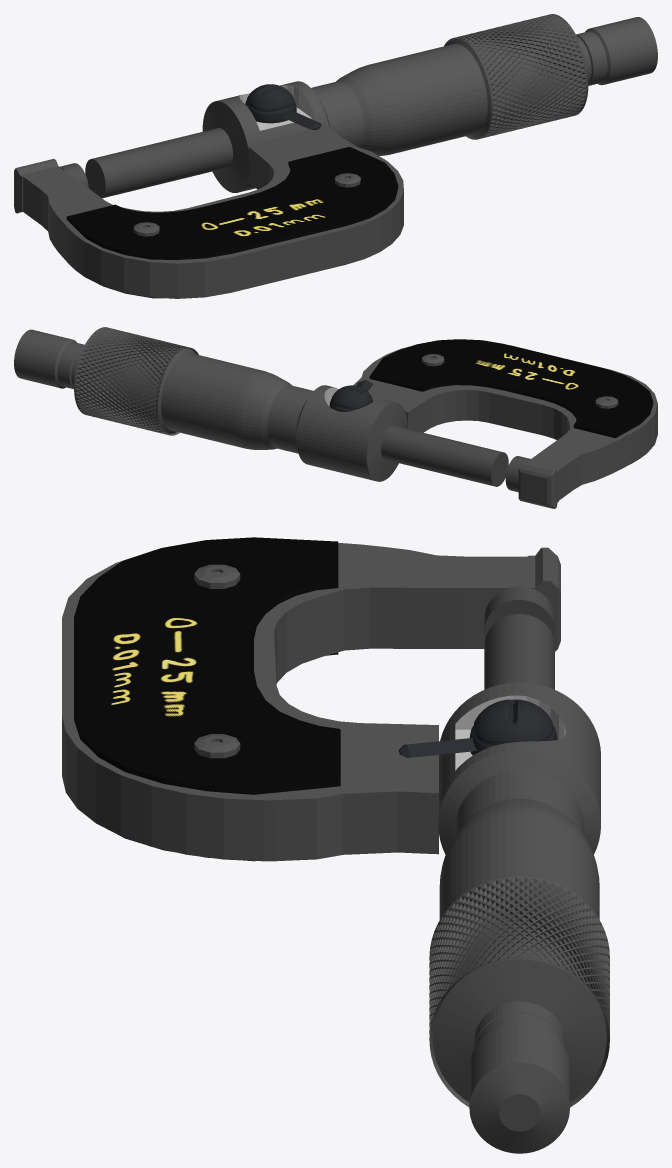
The model's file is metrometer.obj.
3 views of the same model, one above another, from view 1: azimuth 30°, elevation 25°; view 2: azimuth 150°, elevation 25°; view 3: azimuth 270°, elevation 25° (orthographic). The views are drawn at different scales.
Visible parts, largest first — view 1: main_body, part_of_body, accessory, rotatable_wtf_it_is, bolts; view 2: main_body, part_of_body, accessory, rotatable_wtf_it_is, bolts; view 3: main_body, part_of_body, accessory, rotatable_wtf_it_is, bolts.
Boxes of the visible parts, bbox=[...] form: main_body: bbox=[59, 14, 657, 198]; part_of_body: bbox=[14, 127, 403, 298]; accessory: bbox=[66, 146, 398, 298]; rotatable_wtf_it_is: bbox=[245, 84, 321, 130]; bolts: bbox=[133, 173, 360, 236]; main_body: bbox=[14, 327, 530, 492]; part_of_body: bbox=[353, 345, 657, 508]; accessory: bbox=[369, 339, 653, 438]; rotatable_wtf_it_is: bbox=[329, 380, 373, 411]; bolts: bbox=[422, 354, 618, 408]; main_body: bbox=[429, 586, 609, 1153]; part_of_body: bbox=[62, 543, 560, 861]; accessory: bbox=[74, 537, 340, 861]; rotatable_wtf_it_is: bbox=[398, 699, 557, 757]; bolts: bbox=[194, 564, 240, 758].
Bounding box in the file's own units: 4.06 × 0.5904 × 1.73.
